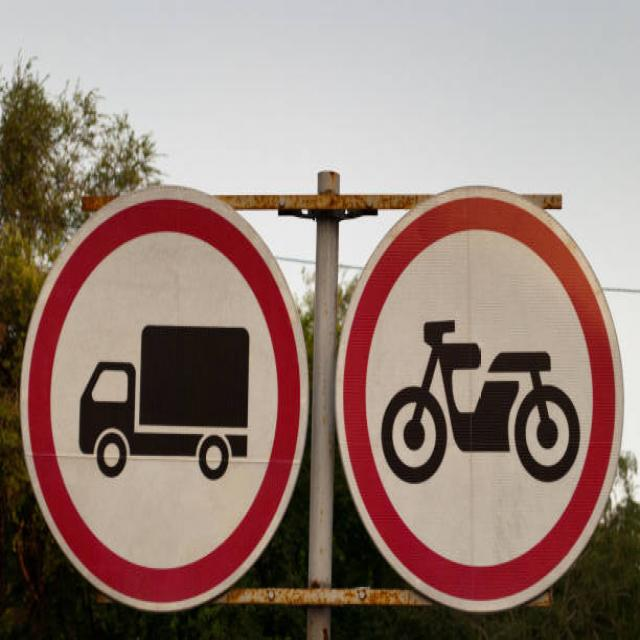do_not_enter: (18, 175, 312, 618)
